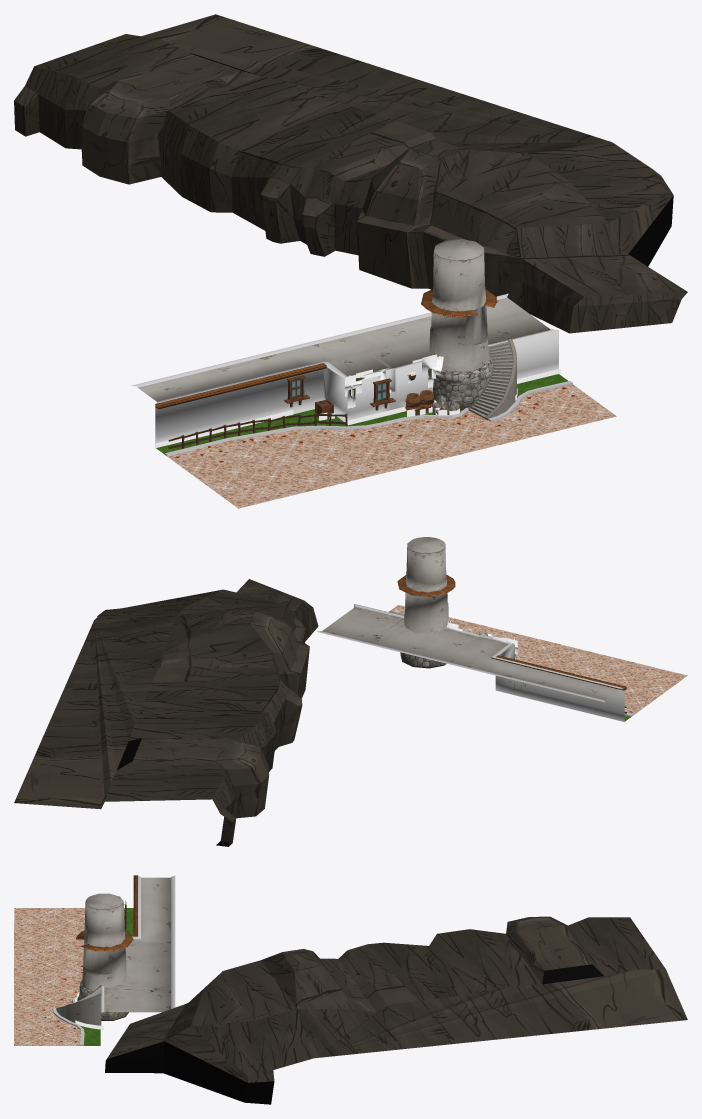
The model's file is lighthouse 1.fbx.
The picture shows the model from 3 angles, top to bottom: view 1: azimuth 30°, elevation 25°; view 2: azimuth 150°, elevation 25°; view 3: azimuth 270°, elevation 25°; orthographic projection. The views are drawn at different scales.
Parts seen in each view (by area): view 1: Cube, Cylinder.001, Cylinder.002, Plane.000, Plane.002, Cube.002; view 2: Cube, Cylinder.001, Cylinder.002; view 3: Cube, Cylinder.001, Cylinder.002.
Part boxes in pixels (box(x1,y1,x2,y2)): Cube: box(14, 14, 687, 333); Cylinder.001: box(131, 293, 616, 508); Cylinder.002: box(421, 239, 516, 419); Plane.000: box(156, 368, 560, 448); Plane.002: box(345, 354, 443, 408); Cube.002: box(168, 413, 347, 448); Cube: box(14, 579, 318, 846); Cylinder.001: box(316, 604, 687, 721); Cylinder.002: box(389, 537, 455, 668); Cube: box(105, 916, 687, 1104); Cylinder.001: box(14, 875, 175, 1045); Cylinder.002: box(56, 893, 133, 1025).
Bounding box in the file's own units: 7290 × 1737 × 9548.
